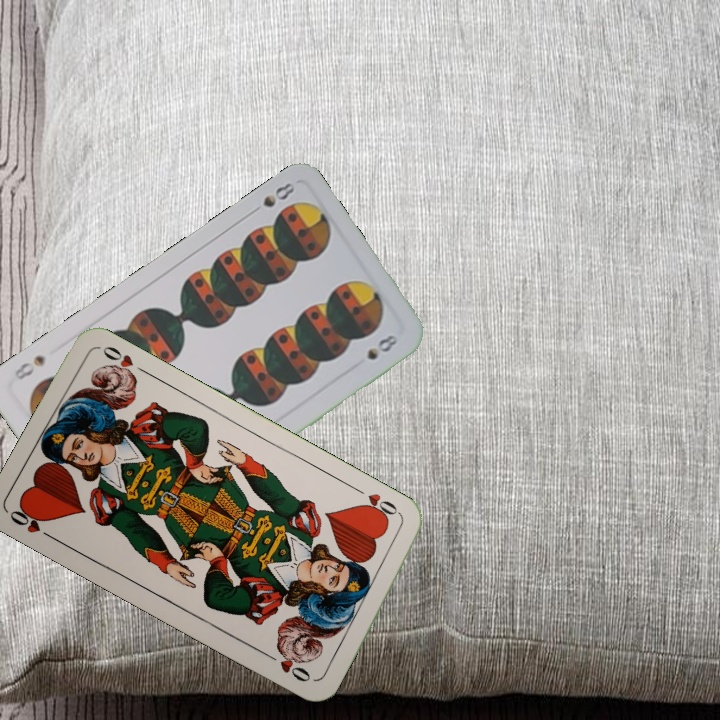HO: (5, 502, 59, 544), (351, 483, 405, 524)
S8: (245, 178, 298, 218)
